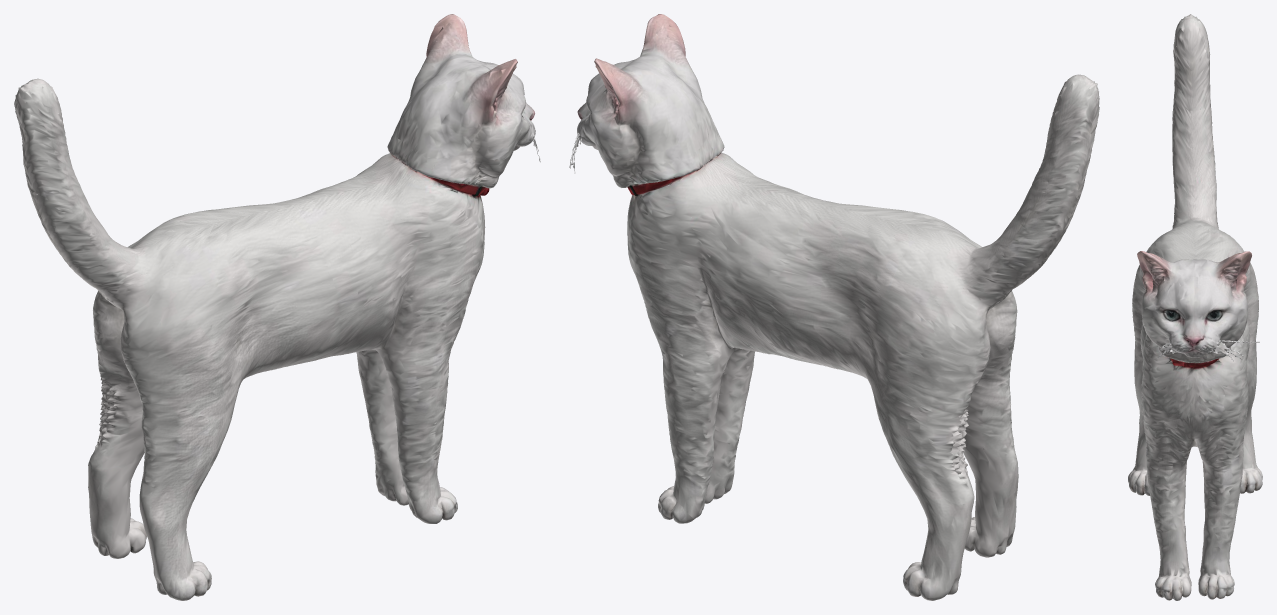
File: MILKOCAT.glb
The picture shows the model from 3 angles, left to right: view 1: azimuth 30°, elevation 25°; view 2: azimuth 150°, elevation 25°; view 3: azimuth 270°, elevation 25°; orthographic projection. The views are drawn at different scales.
Visible parts, largest first — view 1: tripo_node_936d9fcb-c5c0-4d20-92aa-b025a3492c91; view 2: tripo_node_936d9fcb-c5c0-4d20-92aa-b025a3492c91; view 3: tripo_node_936d9fcb-c5c0-4d20-92aa-b025a3492c91.
Part boxes in pixels (x1,y1,x2,y2): tripo_node_936d9fcb-c5c0-4d20-92aa-b025a3492c91: [14, 14, 540, 600]; tripo_node_936d9fcb-c5c0-4d20-92aa-b025a3492c91: [569, 14, 1099, 600]; tripo_node_936d9fcb-c5c0-4d20-92aa-b025a3492c91: [1128, 14, 1262, 600].
Size of the model in its own units: 1.03 by 0.9999 by 0.2875.
1 material, 1 textured.
